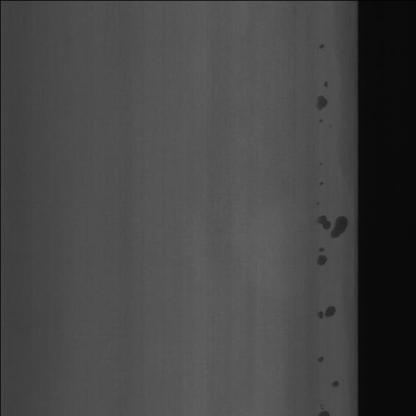oil_spot: (316, 198, 352, 241), (314, 298, 340, 327), (314, 81, 333, 114), (321, 372, 343, 400), (309, 243, 329, 269)
